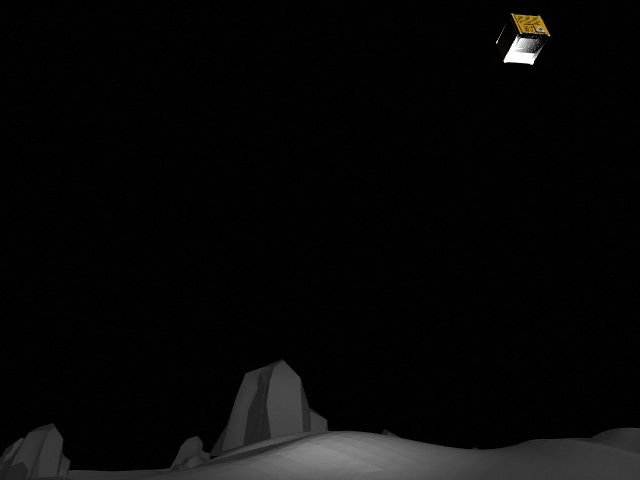cubesat: (490, 7, 553, 73)
